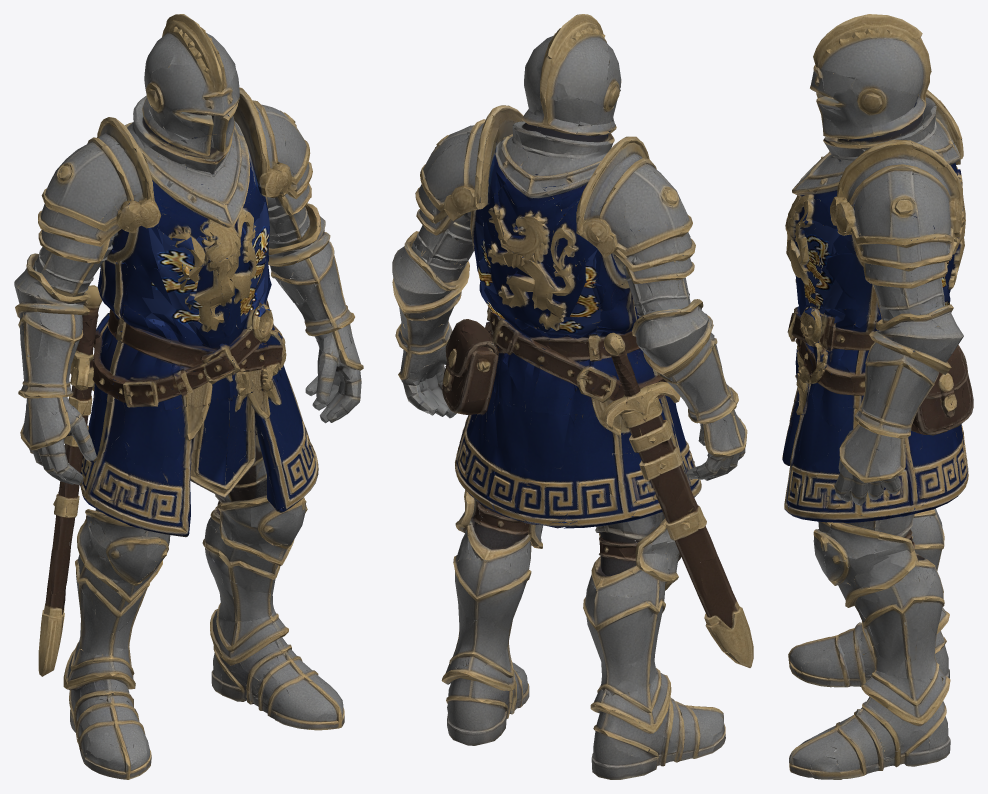
File: sir_aldric_meshy_retopo.glb
The picture shows the model from 3 angles, left to right: view 1: azimuth 30°, elevation 25°; view 2: azimuth 150°, elevation 25°; view 3: azimuth 270°, elevation 25°; orthographic projection.
Parts seen in each view (by area): view 1: SirAldricMeshy; view 2: SirAldricMeshy; view 3: SirAldricMeshy.
Boxes of the visible parts, bbox=[...] form: SirAldricMeshy: bbox=[14, 14, 363, 779]; SirAldricMeshy: bbox=[392, 14, 753, 779]; SirAldricMeshy: bbox=[782, 14, 973, 779].
Size of the model in its own units: 0.9123 by 1.86 by 0.4579.
Materials: 3 (3 with a texture image).
